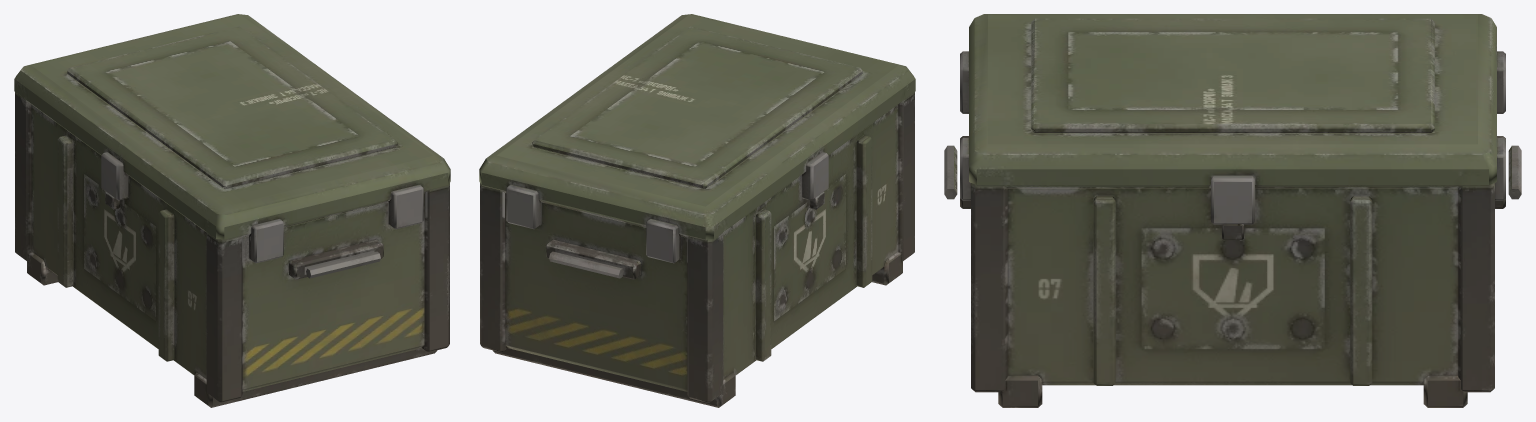
The model's file is hs_supply_crate_lod0.glb.
3 renders of one model, left to right at view 1: azimuth 30°, elevation 25°; view 2: azimuth 150°, elevation 25°; view 3: azimuth 270°, elevation 25°, orthographic. The views are drawn at different scales.
Bounding box in the file's own units: 0.99 × 0.805 × 1.58.
1 material, 1 textured.
